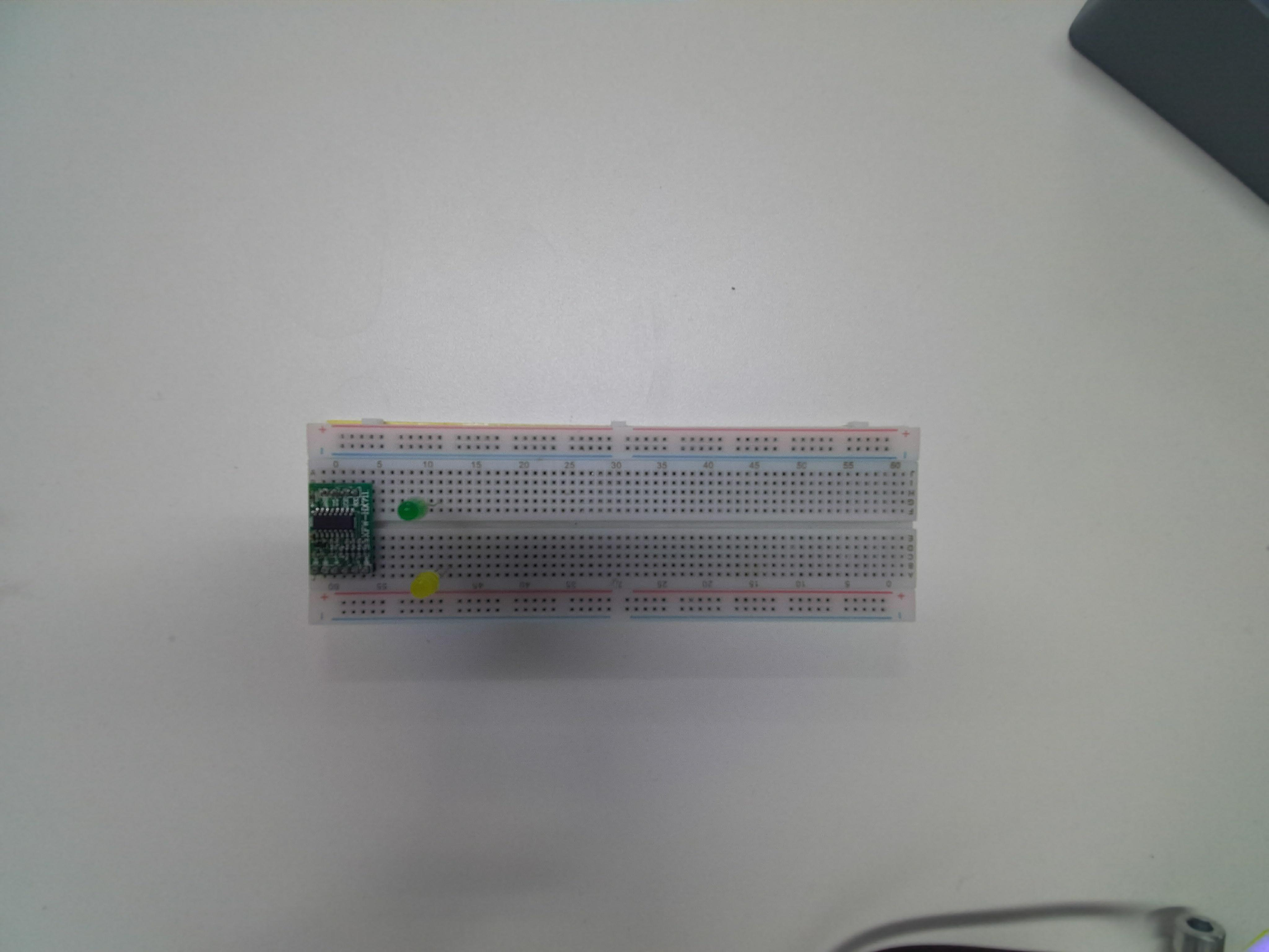base: (301, 422, 921, 625)
green-board: (307, 474, 380, 576)
green-led: (397, 498, 433, 523)
yellow-led: (411, 570, 439, 600)
